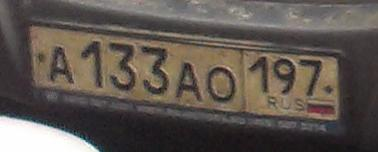license-plateSW: (29, 21, 341, 122)
